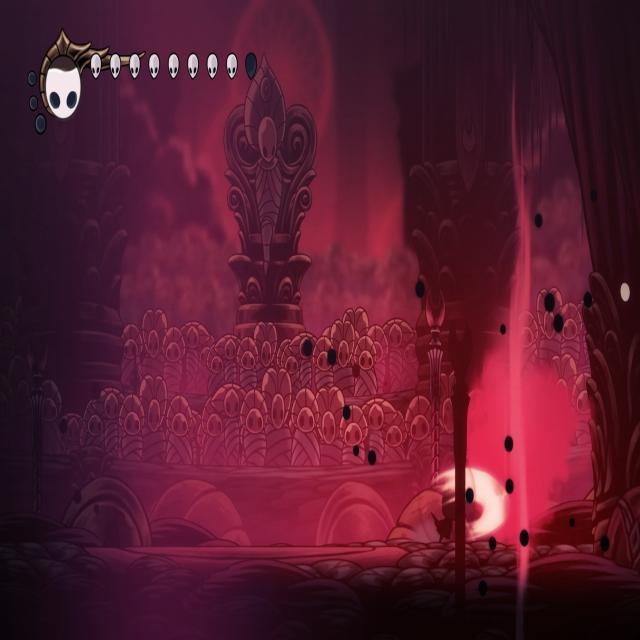Player: (428, 473, 458, 543)
